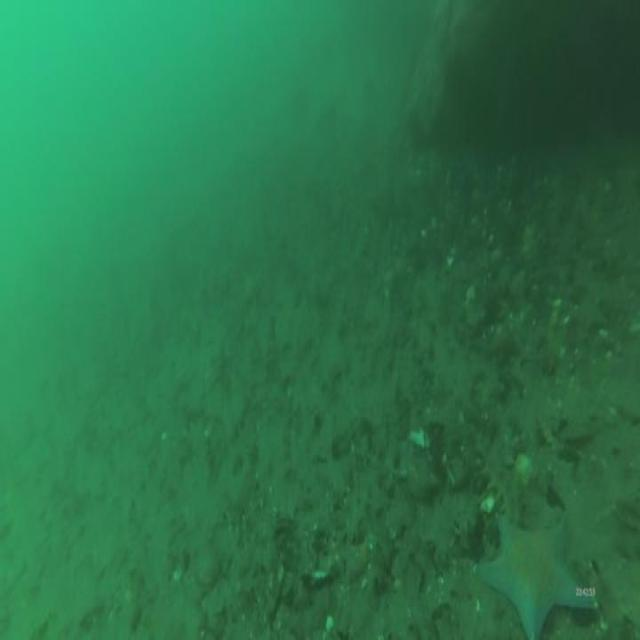starfish: (474, 504, 599, 640), (206, 335, 237, 400)
